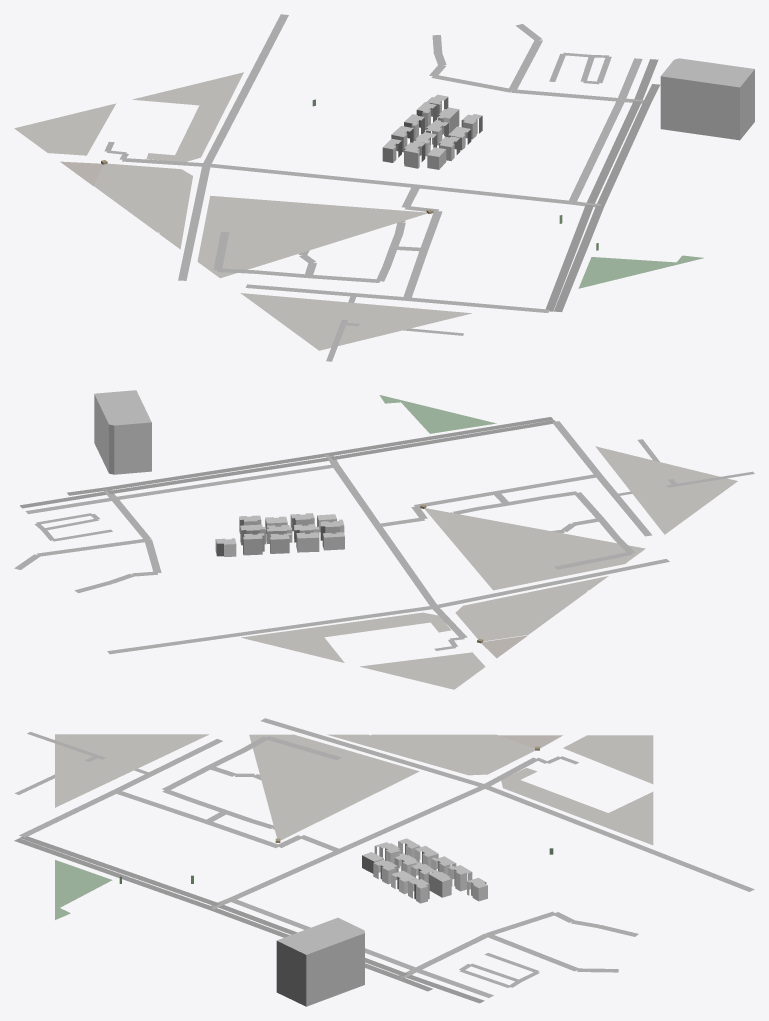
The picture shows the model from 3 angles, top to bottom: view 1: azimuth 30°, elevation 25°; view 2: azimuth 150°, elevation 25°; view 3: azimuth 270°, elevation 25°; orthographic projection. The views are drawn at different scales.
Size of the model in its own units: 566 by 48.4 by 619.
